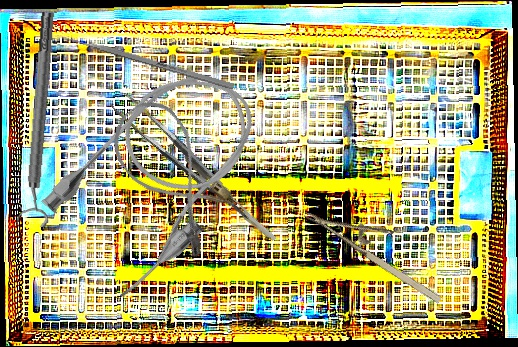Cannula: (30, 45, 288, 307), (98, 90, 251, 261)
Fixation Ring: (13, 11, 67, 228)
Needle Holder: (303, 184, 458, 308)
Pusher: (53, 31, 235, 90)
Tissue Forceps: (109, 77, 277, 266)
